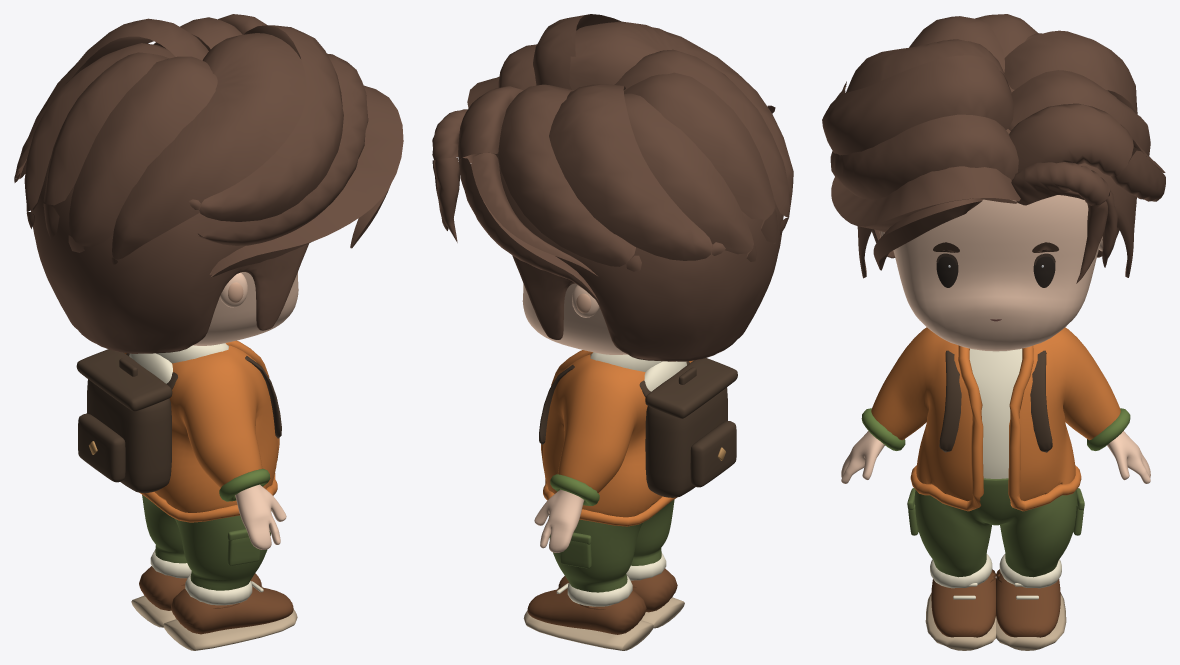
File: character_chibi_dressed.glb
The picture shows the model from 3 angles, left to right: view 1: azimuth 30°, elevation 25°; view 2: azimuth 150°, elevation 25°; view 3: azimuth 270°, elevation 25°; orthographic projection. The views are drawn at different scales.
Visible parts, largest first — view 1: hair, jacket, backpack, pants, boots, Chibi_Base_Mesh2, soles, pants_cuffs, jacket_trim, hood, cargo_pockets, jacket_cuffs; view 2: hair, jacket, backpack, pants, boots, Chibi_Base_Mesh2, soles, pants_cuffs, hood, jacket_trim, cargo_pockets, jacket_cuffs; view 3: hair, Chibi_Base_Mesh2, jacket, pants, boots, jacket_trim, inner_shirt, backpack, soles, pants_cuffs, jacket_cuffs, eyes (+1 smaller).
Boxes of the visible parts, x1=… form: hair: x1=14, y1=14, x2=403, y2=353; jacket: x1=124, y1=345, x2=277, y2=512; backpack: x1=76, y1=349, x2=281, y2=492; pants: x1=142, y1=495, x2=271, y2=590; boots: x1=139, y1=566, x2=293, y2=634; Chibi_Base_Mesh2: x1=193, y1=272, x2=298, y2=549; soles: x1=131, y1=586, x2=297, y2=650; pants_cuffs: x1=150, y1=550, x2=252, y2=605; jacket_trim: x1=139, y1=340, x2=279, y2=522; hood: x1=129, y1=343, x2=228, y2=383; cargo_pockets: x1=227, y1=529, x2=259, y2=565; jacket_cuffs: x1=219, y1=468, x2=270, y2=501; hair: x1=432, y1=14, x2=793, y2=361; jacket: x1=542, y1=354, x2=693, y2=517; backpack: x1=539, y1=358, x2=737, y2=497; pants: x1=549, y1=499, x2=674, y2=592; boots: x1=527, y1=568, x2=677, y2=634; Chibi_Base_Mesh2: x1=522, y1=283, x2=627, y2=552; soles: x1=523, y1=588, x2=684, y2=650; pants_cuffs: x1=567, y1=553, x2=666, y2=606; hood: x1=590, y1=352, x2=686, y2=391; jacket_trim: x1=541, y1=350, x2=676, y2=526; cargo_pockets: x1=560, y1=532, x2=591, y2=568; jacket_cuffs: x1=550, y1=474, x2=599, y2=505; hair: x1=822, y1=14, x2=1165, y2=283; Chibi_Base_Mesh2: x1=841, y1=195, x2=1150, y2=483; jacket: x1=871, y1=327, x2=1120, y2=501; pants: x1=914, y1=478, x2=1077, y2=577; boots: x1=931, y1=569, x2=1060, y2=637; jacket_trim: x1=910, y1=345, x2=1081, y2=511; inner_shirt: x1=969, y1=348, x2=1022, y2=478; backpack: x1=939, y1=350, x2=1052, y2=452; soles: x1=925, y1=592, x2=1066, y2=650; pants_cuffs: x1=930, y1=554, x2=1061, y2=588; jacket_cuffs: x1=861, y1=408, x2=1130, y2=450; eyes: x1=936, y1=253, x2=1055, y2=287.
Size of the model in its own units: 0.6847 by 1.2 by 0.6341.
